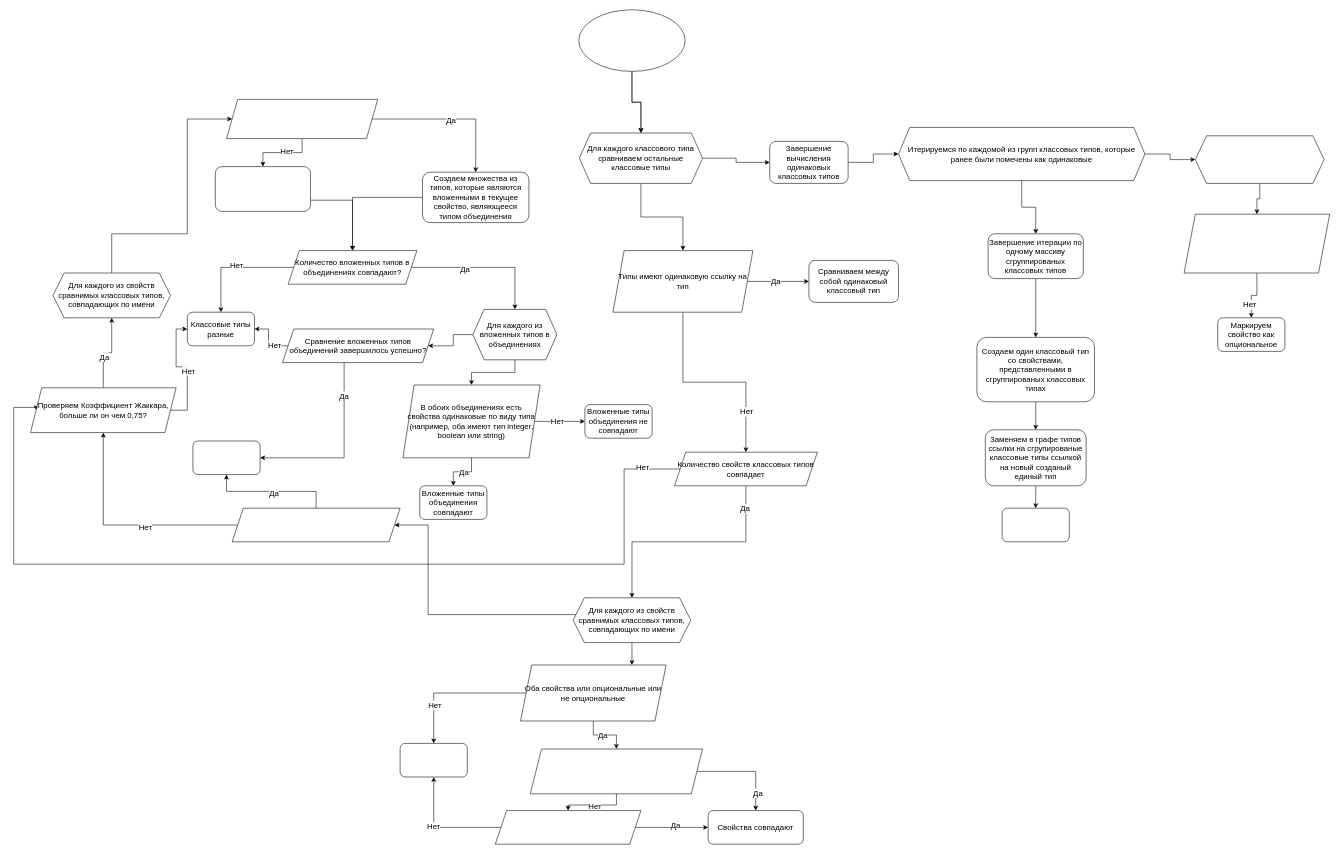
Some shapes in this 1340 by 854 pixel diagram are drawn without their labels. The box of each missing label's shape, as (x1, y1, x2, y2) in pixels:
Все классовые типы, определенные ранее: (578, 9, 685, 71)
Группируем классовые типы в массив: (192, 440, 260, 475)
Итерируемся по каждому из свойств классового типа, соответствующих по их ключу: (1195, 135, 1324, 183)
Оба свойства имеют одинаковый вид типа: (495, 810, 641, 844)
Свойства не совпадают: (400, 743, 467, 777)
Свойство представлено в каждом сгруппированом классовом типе?: (1184, 214, 1330, 273)
Создаем множества из одного типа, соответствующего типу сравнимого свойства: (215, 166, 311, 211)
Сравнение свойств завершилось успешно?: (232, 508, 400, 542)
сравнимые свойства для классовых типов имеют тип объединения?: (226, 99, 378, 139)
Ссылка на тип для свойств сравнимых классовых типов совпадает: (530, 748, 703, 794)
Удаляем сгруппированые классовые типы: (1002, 508, 1069, 542)
